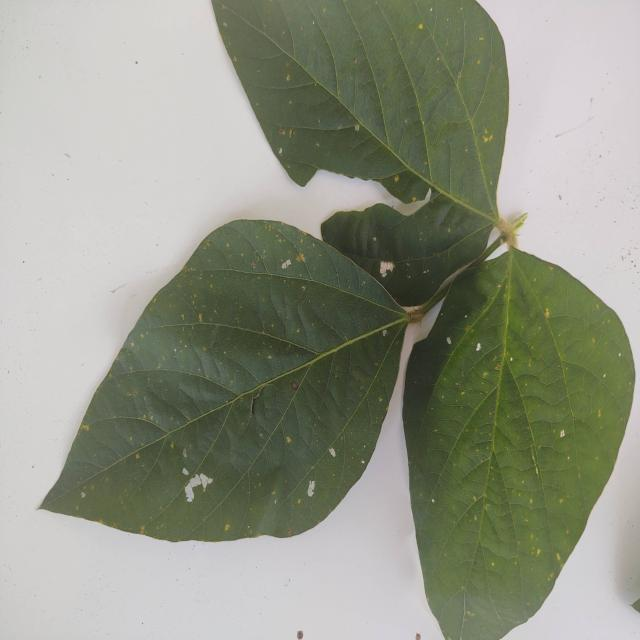Soybean: (0, 0, 636, 640)
downey_mildew: (43, 390, 227, 525), (383, 1, 489, 218), (477, 399, 575, 606), (209, 215, 397, 322), (424, 424, 520, 633), (160, 401, 286, 538), (293, 1, 398, 151), (400, 259, 480, 454), (385, 210, 500, 304), (532, 268, 623, 386), (222, 3, 320, 98), (437, 361, 508, 485), (267, 414, 337, 533), (308, 328, 374, 453), (116, 368, 246, 428), (428, 109, 497, 222), (149, 326, 251, 400), (270, 120, 381, 186), (363, 0, 425, 114), (245, 373, 316, 469), (541, 362, 617, 451), (456, 256, 512, 374), (445, 10, 499, 130), (154, 268, 241, 340), (64, 413, 177, 465), (325, 205, 415, 268), (441, 560, 510, 636), (298, 320, 398, 370), (198, 224, 288, 278), (266, 272, 326, 346), (344, 138, 423, 189), (258, 288, 313, 355), (507, 376, 576, 428), (308, 431, 347, 518), (224, 395, 268, 472), (433, 183, 503, 229), (284, 92, 364, 132), (135, 320, 255, 345), (428, 113, 468, 169), (481, 496, 522, 549), (379, 170, 434, 209), (500, 476, 554, 511), (438, 585, 468, 635), (278, 159, 317, 187)
